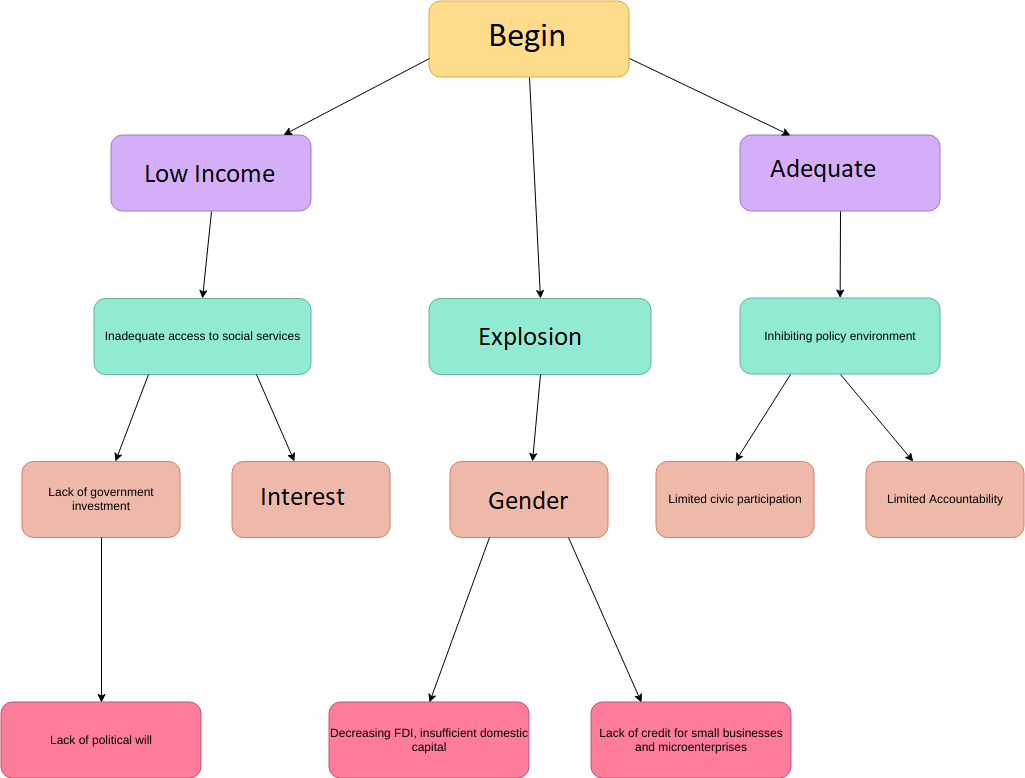arrow: (627, 55, 795, 138), (565, 533, 645, 705), (281, 58, 434, 139), (425, 535, 493, 706), (835, 371, 916, 466), (731, 373, 795, 464), (524, 73, 549, 300), (253, 371, 300, 463), (111, 375, 151, 463), (93, 534, 109, 706), (194, 211, 216, 301), (524, 374, 544, 461), (833, 211, 849, 300)
process: (426, 294, 654, 377), (91, 295, 315, 378), (735, 295, 944, 379), (586, 697, 797, 778), (107, 131, 314, 213), (735, 133, 944, 214), (425, 1, 633, 81), (326, 699, 534, 778), (1, 700, 205, 778), (445, 457, 613, 543), (19, 457, 184, 543), (649, 457, 819, 540), (227, 457, 394, 539), (861, 458, 1025, 541)
text: (594, 724, 785, 757), (328, 725, 529, 754), (102, 326, 301, 345), (44, 483, 161, 514), (476, 324, 584, 353), (142, 163, 276, 185), (766, 157, 874, 184), (759, 327, 918, 345), (486, 20, 568, 54), (256, 483, 347, 512), (881, 490, 1006, 508), (665, 491, 804, 507), (486, 488, 573, 513), (47, 732, 158, 750)
